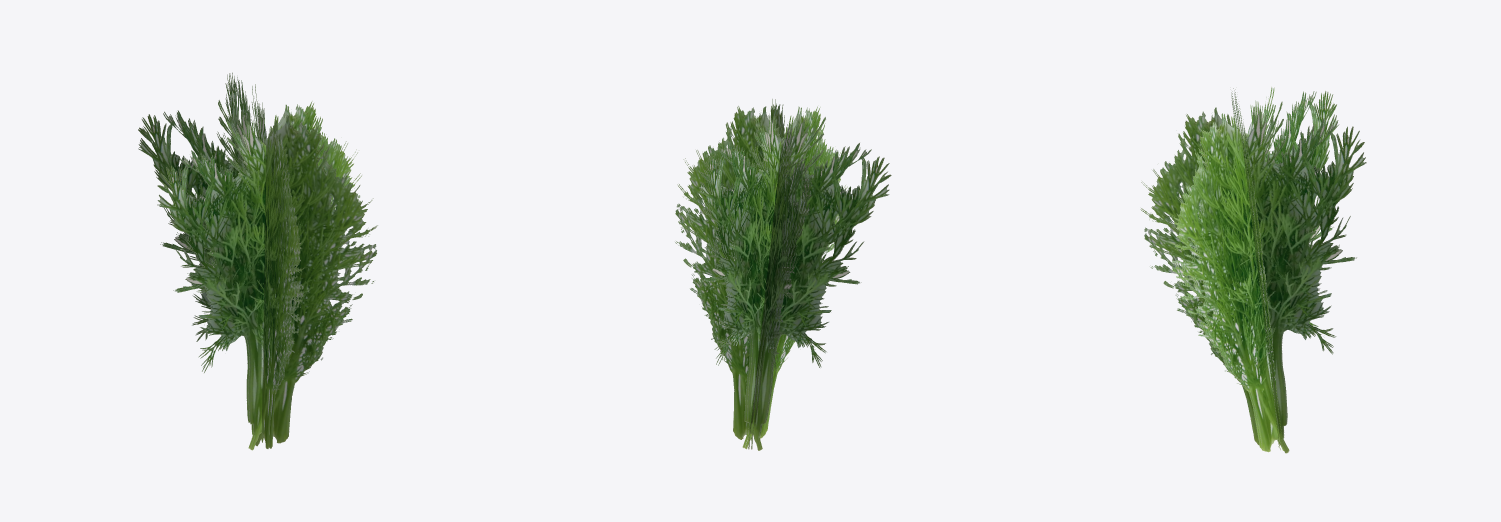
File: Dill.fbx
3 views of the same model, side by side, from view 1: azimuth 30°, elevation 25°; view 2: azimuth 150°, elevation 25°; view 3: azimuth 270°, elevation 25° (orthographic). The views are drawn at different scales.
Visible parts, largest first — view 1: Dill; view 2: Dill; view 3: Dill.
Part boxes in pixels (<box>): Dill: <box>138,72,377,450</box>; Dill: <box>675,99,891,450</box>; Dill: <box>1140,87,1366,453</box>.
Bounding box in the file's own units: 158 × 168 × 145.
